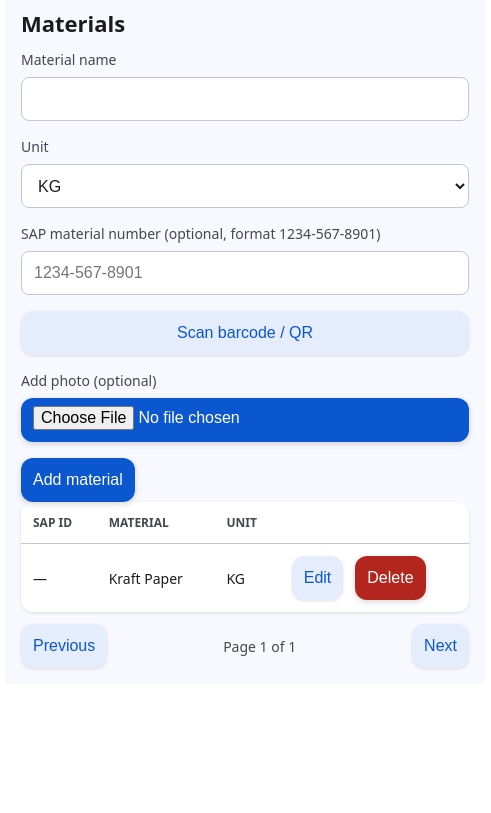
Test: MaterialsPage › shows which inventory is blocking deletion when a material is already used in a count
The width and height of the screenshot is (491, 813).
Expected: the text "Kraft Paper" is shown, [97,544,214,612]
Click the button "Delete": (390, 578) [355,556,426,600]
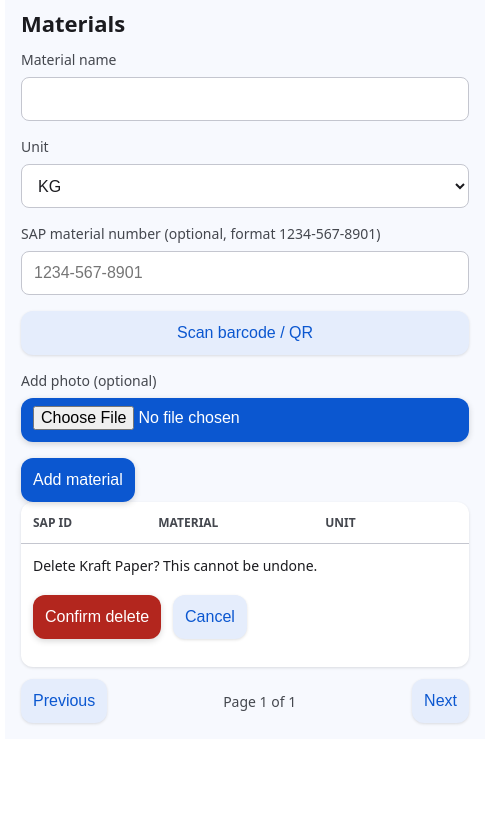
Click the button "Confirm delete": (97, 617) [33,595,161,639]
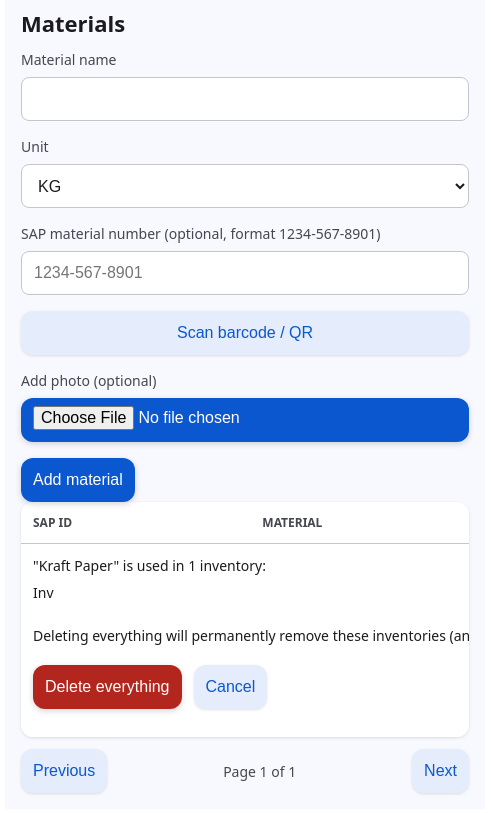
Expected: the list item "Inv" is shown, [33,583,54,602]
Expected: the button "Delete everything" is shown, [33,665,182,709]
Expected: the text "\"Kraft Paper\" is used in 1 inventory:" is shown, [33,556,266,575]
